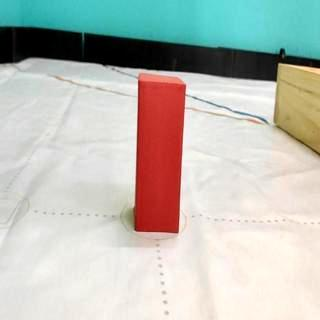redbox: (135, 72, 186, 235)
